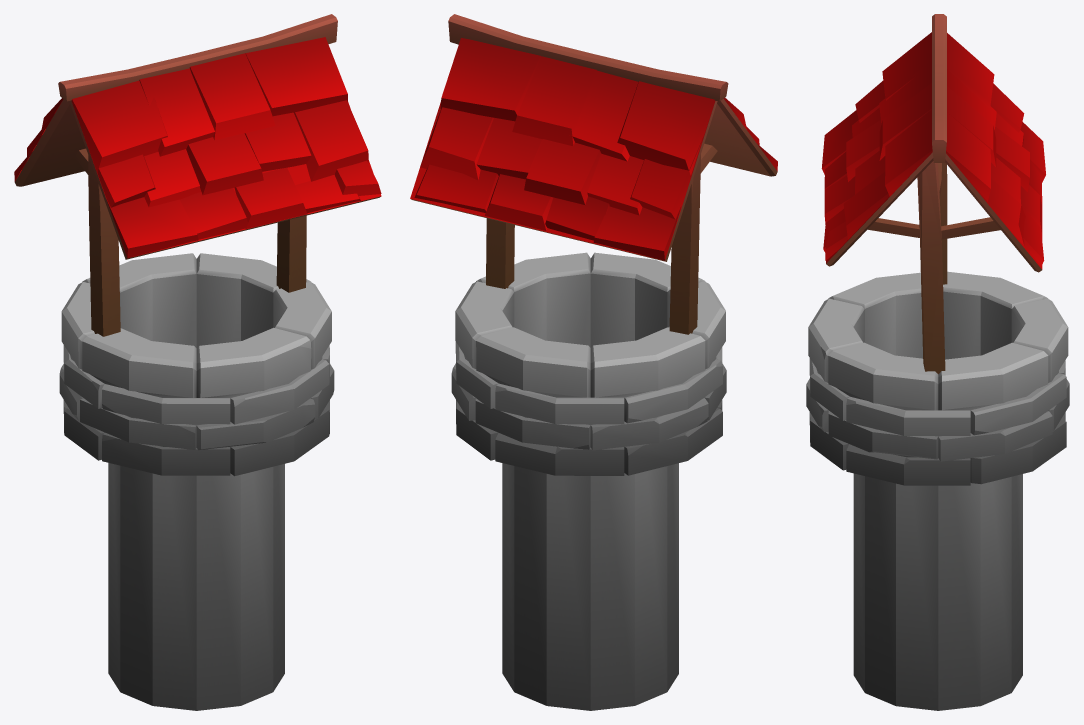
Rendered from Well_RoofRed.fbx.
3 renders of one model, left to right at view 1: azimuth 30°, elevation 25°; view 2: azimuth 150°, elevation 25°; view 3: azimuth 270°, elevation 25°, orthographic. The views are drawn at different scales.
Parts seen in each view (by area): view 1: Well_RoofRed; view 2: Well_RoofRed; view 3: Well_RoofRed.
Boxes of the visible parts, x1,y1,x2,y2 form: Well_RoofRed: (14,14,381,710); Well_RoofRed: (410,14,777,710); Well_RoofRed: (806,14,1069,710).
Size of the model in its own units: 3.57 by 7.84 by 3.12.
